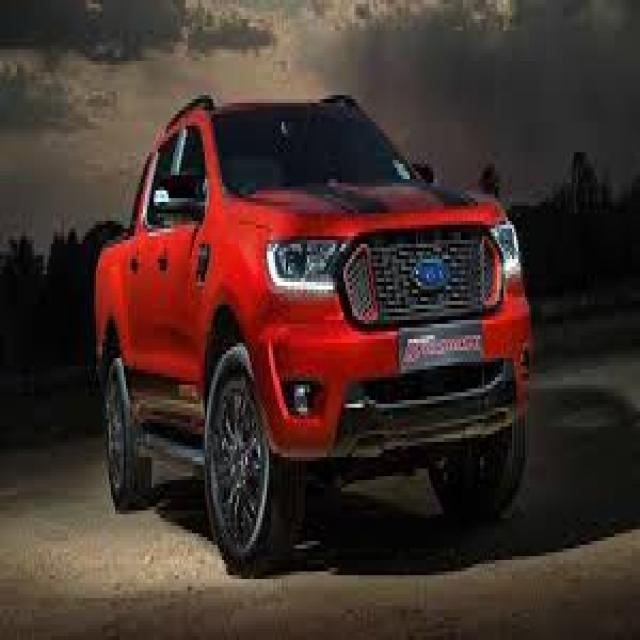Pickup Trucks: (94, 99, 533, 571)
